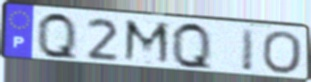2: (84, 17, 121, 61)
I: (239, 27, 257, 73)
M: (121, 18, 173, 68)
O: (260, 30, 304, 76)
Q: (35, 10, 81, 64), (170, 20, 215, 73)
